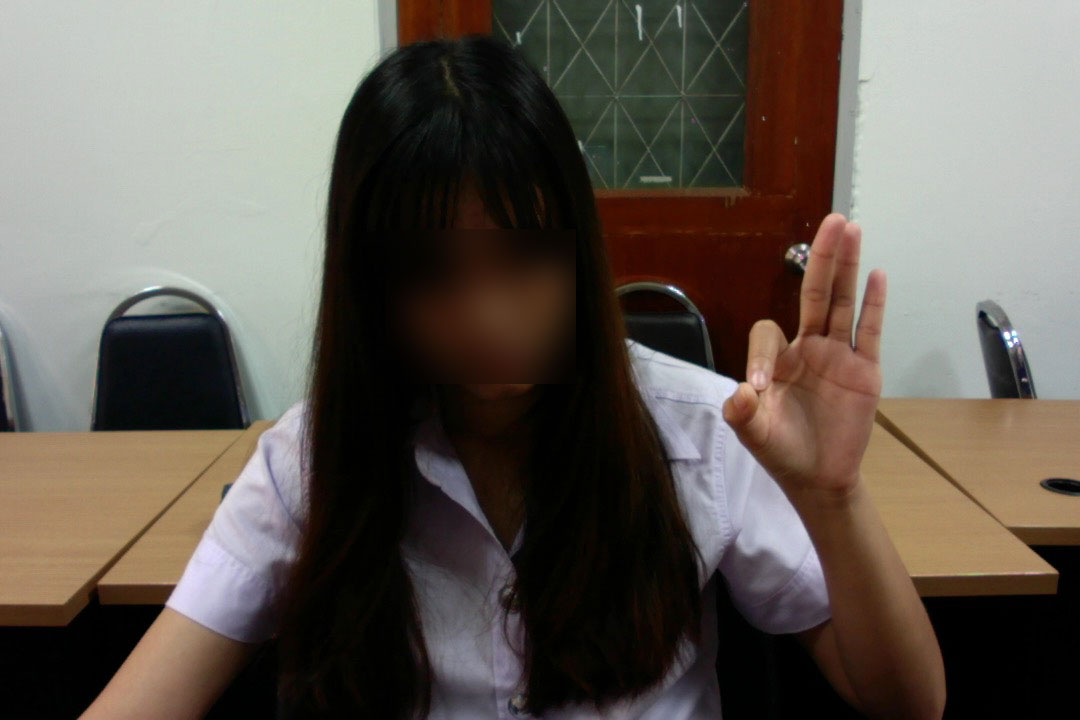for: (685, 197, 935, 545)
